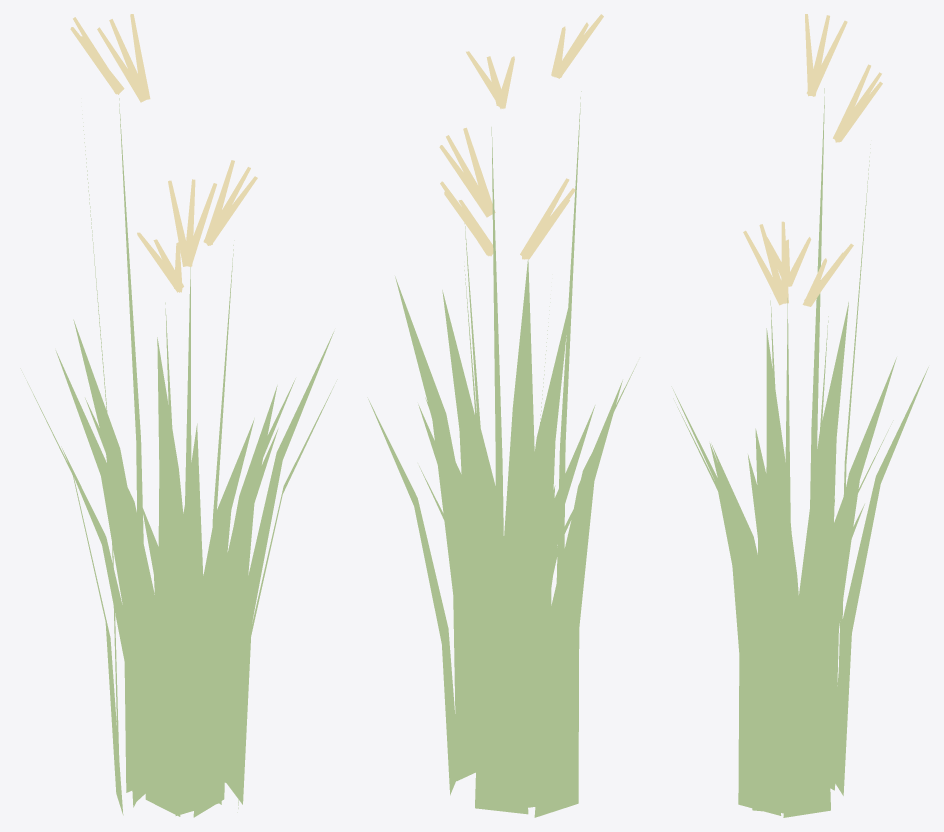
File: Blender_Bluestem_1.glb
The picture shows the model from 3 angles, left to right: view 1: azimuth 30°, elevation 25°; view 2: azimuth 150°, elevation 25°; view 3: azimuth 270°, elevation 25°; orthographic projection. The views are drawn at different scales.
Visible parts, largest first — view 1: Blender_Bluestem_1; view 2: Blender_Bluestem_1; view 3: Blender_Bluestem_1.
Boxes of the visible parts, x1,y1,x2,y2 form: Blender_Bluestem_1: (20,14,337,817); Blender_Bluestem_1: (367,14,636,817); Blender_Bluestem_1: (671,14,928,817).
Bounding box in the file's own units: 0.5828 × 1.6 × 0.5124.
